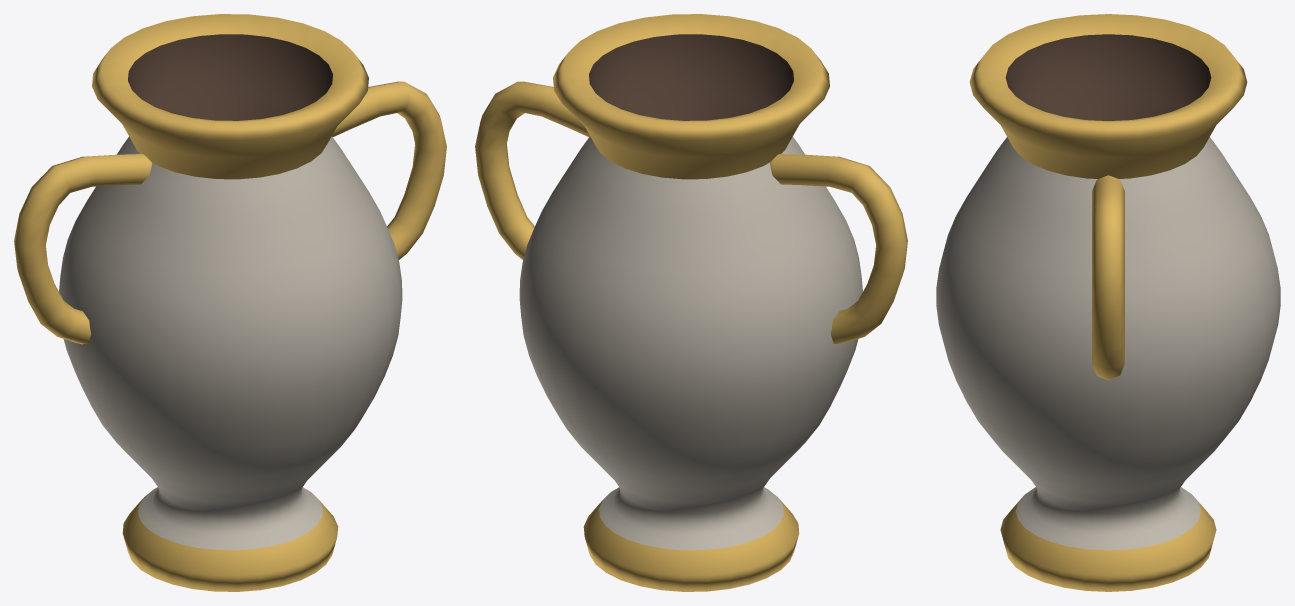
File: handled_urn.glb
The picture shows the model from 3 angles, left to right: view 1: azimuth 30°, elevation 25°; view 2: azimuth 150°, elevation 25°; view 3: azimuth 270°, elevation 25°; orthographic projection.
Parts seen in each view (by area): view 1: handled_urn_mesh; view 2: handled_urn_mesh; view 3: handled_urn_mesh.
Boxes of the visible parts, left/top/right/bottom form: handled_urn_mesh: left=14, top=14, right=446, bottom=591; handled_urn_mesh: left=475, top=14, right=907, bottom=591; handled_urn_mesh: left=936, top=14, right=1280, bottom=591.
Size of the model in its own units: 0.482 by 0.515 by 0.3348.
